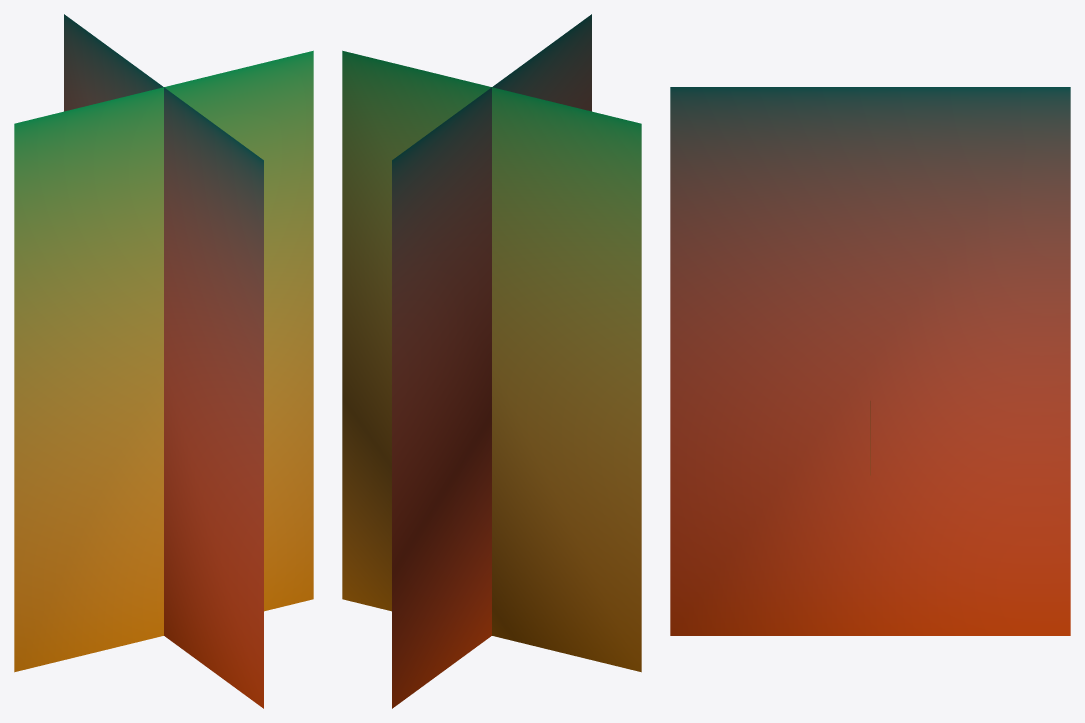
The model's file is SM_Flower_Daisy_B_LOD3.fbx.
3 renders of one model, left to right at view 1: azimuth 30°, elevation 25°; view 2: azimuth 150°, elevation 25°; view 3: azimuth 270°, elevation 25°, orthographic.
Visible parts, largest first — view 1: SM_Flower_Daisy_B_LOD3; view 2: SM_Flower_Daisy_B_LOD3; view 3: SM_Flower_Daisy_B_LOD3.
Boxes of the visible parts, left/top/right/bottom form: SM_Flower_Daisy_B_LOD3: left=14, top=14, right=313, bottom=708; SM_Flower_Daisy_B_LOD3: left=342, top=14, right=641, bottom=708; SM_Flower_Daisy_B_LOD3: left=670, top=87, right=1070, bottom=635.
Size of the model in its own units: 0.3239 by 0.5667 by 0.3745.
